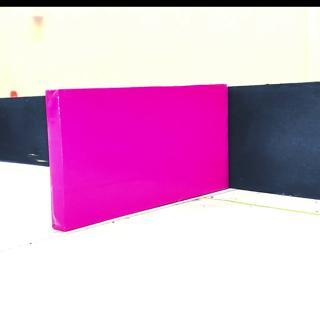xparking: (47, 89, 224, 186)
